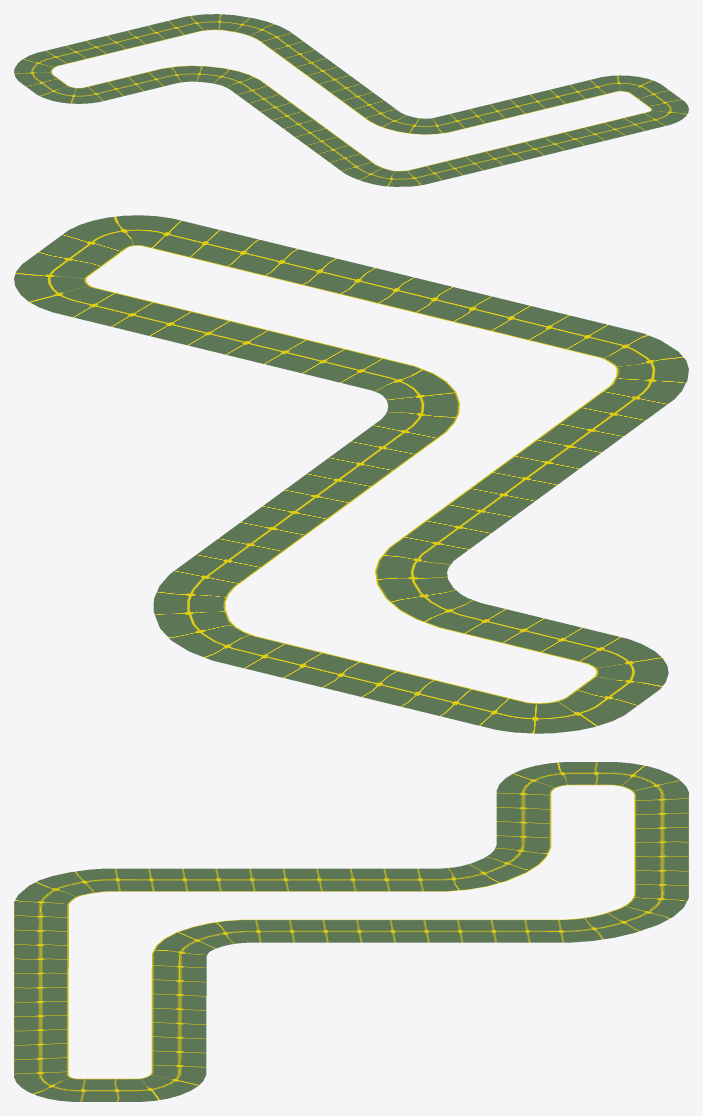
File: rc_02_grd_sdpz.FBX
3 renders of one model, top to bottom at view 1: azimuth 30°, elevation 25°; view 2: azimuth 150°, elevation 25°; view 3: azimuth 270°, elevation 25°, orthographic. The views are drawn at different scales.
Parts seen in each view (by area): view 1: 图形004; view 2: 图形004; view 3: 图形004.
Boxes of the visible parts, <box> form: 图形004: <box>14,14,688,186</box>; 图形004: <box>14,215,688,733</box>; 图形004: <box>14,762,688,1101</box>.
Bounding box in the file's own units: 66064 × 55473 × 0.
